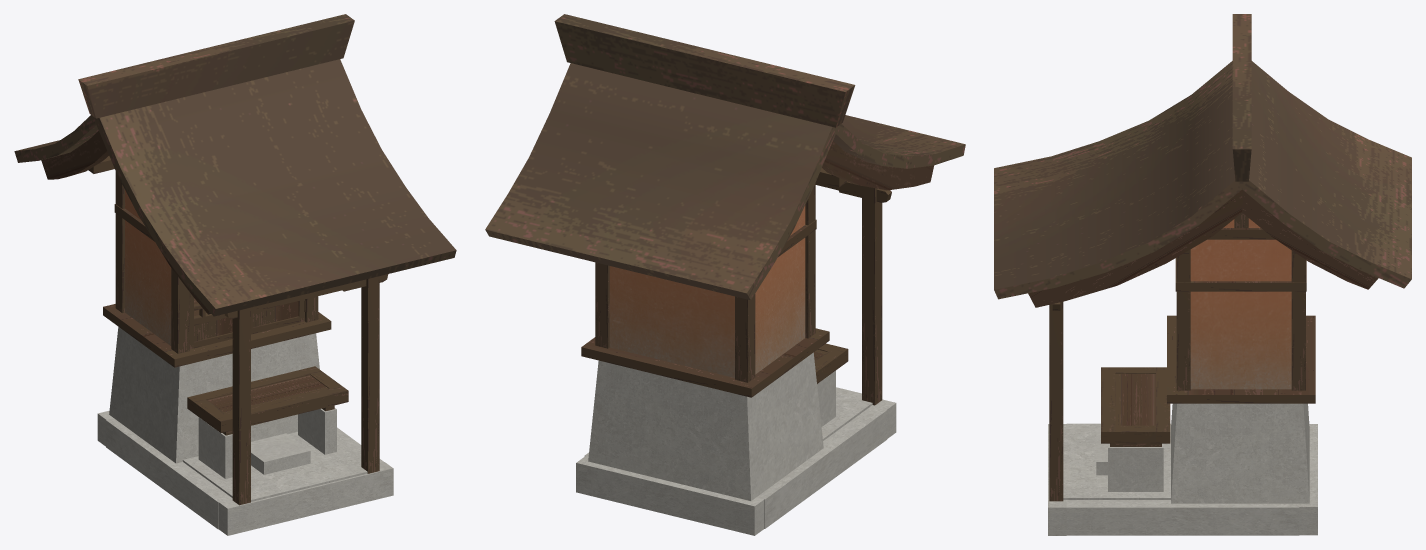
File: Jhokora02a.fbx
The picture shows the model from 3 angles, left to right: view 1: azimuth 30°, elevation 25°; view 2: azimuth 150°, elevation 25°; view 3: azimuth 270°, elevation 25°; orthographic projection. The views are drawn at different scales.
Visible parts, largest first — view 1: Jhokora02a; view 2: Jhokora02a; view 3: Jhokora02a.
Part boxes in pixels (<box>): Jhokora02a: <box>14,14,456,535</box>; Jhokora02a: <box>485,14,965,535</box>; Jhokora02a: <box>994,14,1411,535</box>.
Size of the model in its own units: 0.5701 by 0.8089 by 0.7433.
